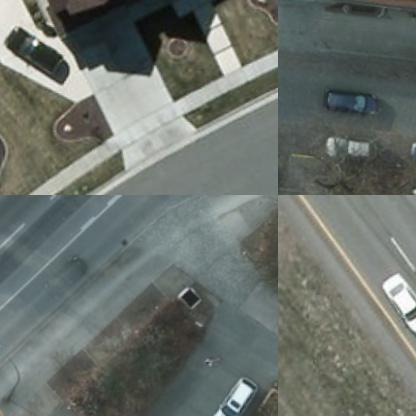car: (0, 24, 64, 80), (374, 266, 415, 339), (208, 373, 258, 415), (320, 87, 379, 122), (322, 133, 378, 166)
